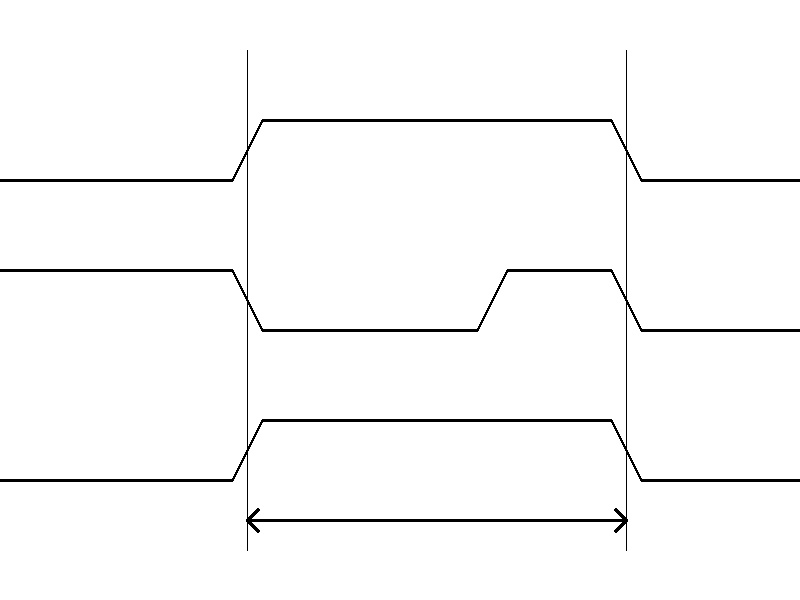double_arrow: (247, 505, 626, 535)
